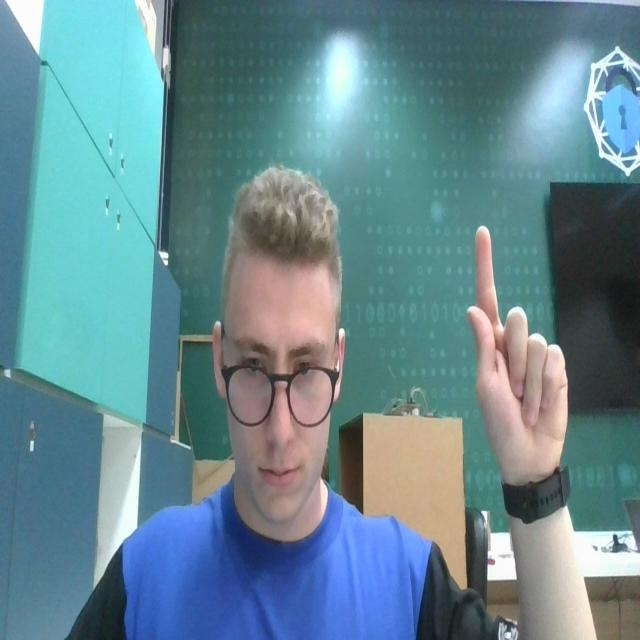G: (464, 224, 570, 475)
